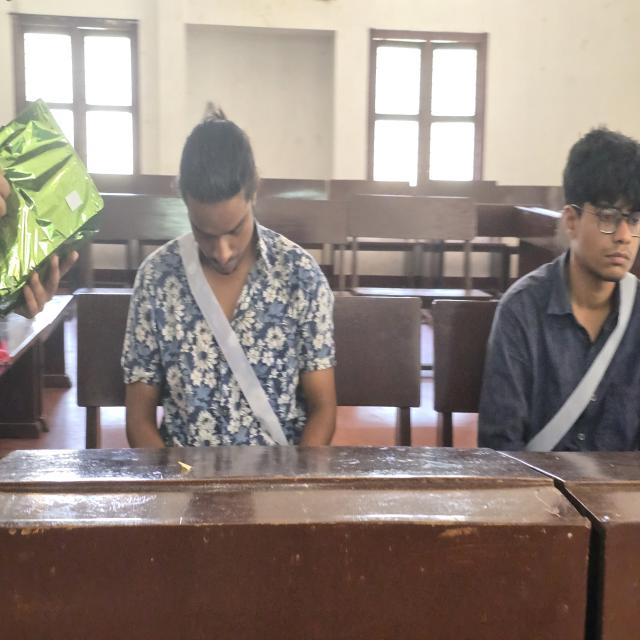seatbelt: (143, 268, 319, 445), (508, 279, 640, 449)
